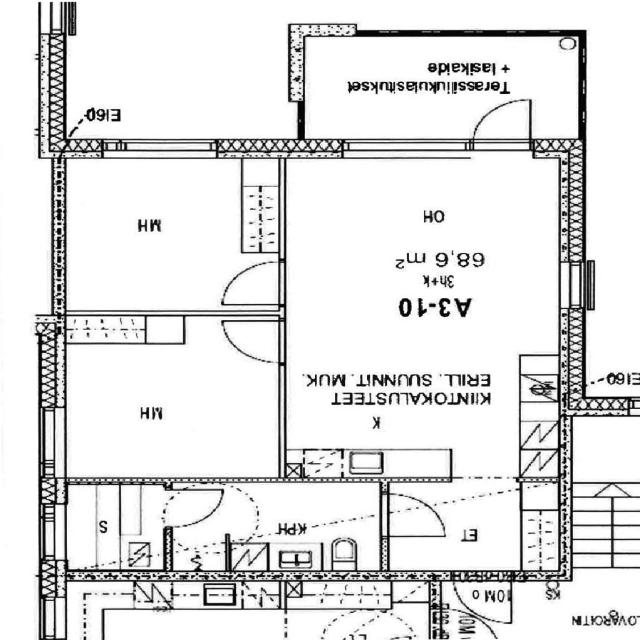door: (217, 256, 283, 306), (468, 97, 534, 144), (220, 318, 285, 364), (383, 491, 446, 538), (164, 485, 226, 530)
window: (338, 133, 472, 161), (468, 95, 535, 150), (103, 135, 220, 161), (562, 255, 600, 318), (36, 404, 68, 474), (468, 136, 534, 153)
zone: (279, 149, 569, 481), (54, 319, 282, 482), (51, 152, 279, 314), (381, 481, 554, 576), (226, 482, 385, 572), (57, 484, 165, 573), (64, 315, 162, 343)
